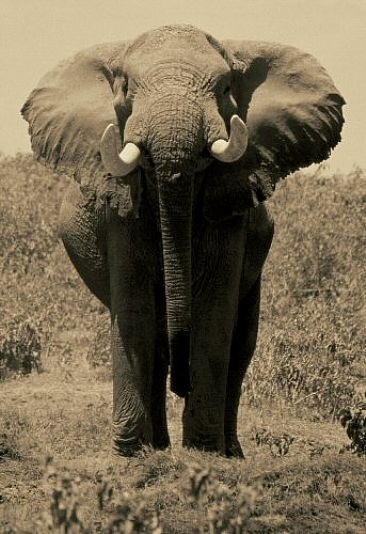elephant: (17, 25, 346, 460)
